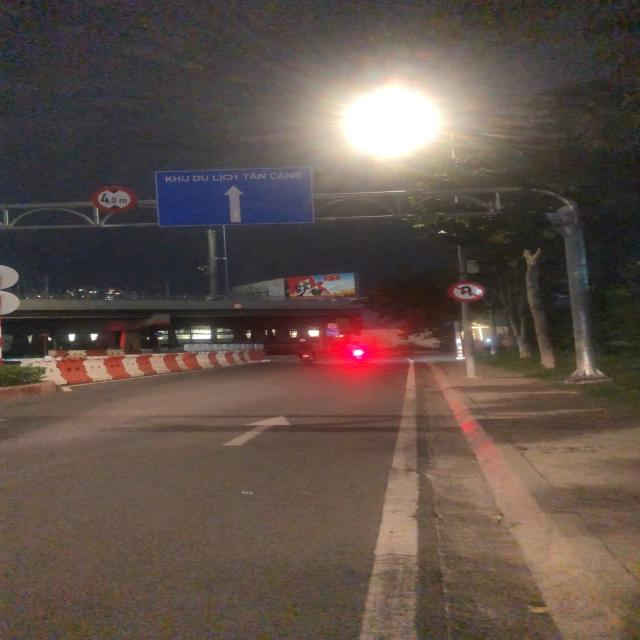Bien bao cam quay dau xe: (445, 278, 486, 303)
Bien bao han che chieu cao: (90, 184, 138, 215)
